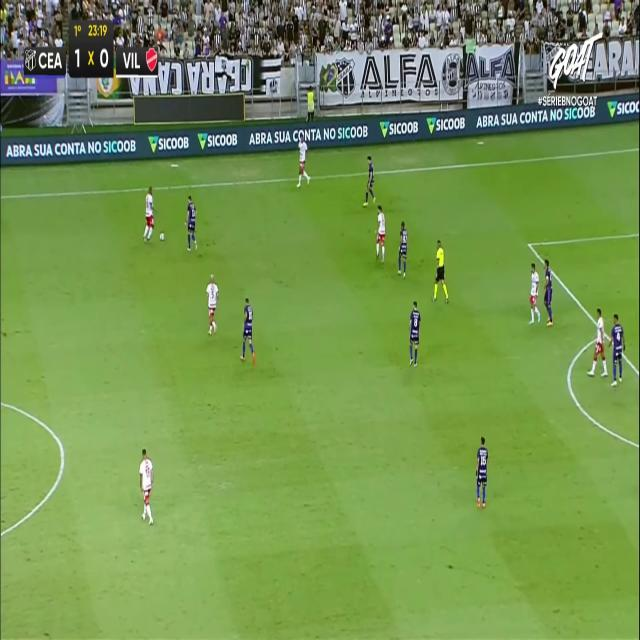ball: (160, 230, 165, 241)
player: (587, 308, 609, 377), (608, 313, 624, 386), (139, 447, 154, 524), (240, 297, 255, 364), (475, 435, 488, 508), (296, 131, 310, 187), (409, 300, 421, 365), (206, 273, 218, 335), (185, 195, 198, 252), (542, 259, 553, 326), (529, 263, 540, 324), (143, 185, 155, 240), (397, 220, 408, 277), (363, 154, 375, 206), (375, 204, 385, 262)
referee: (432, 240, 449, 303)
